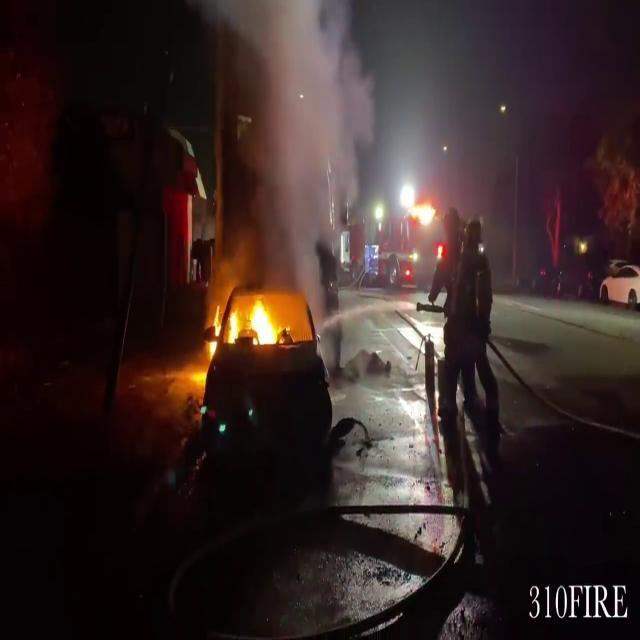Fire: (210, 284, 288, 354)
Smoke: (214, 0, 365, 285)
